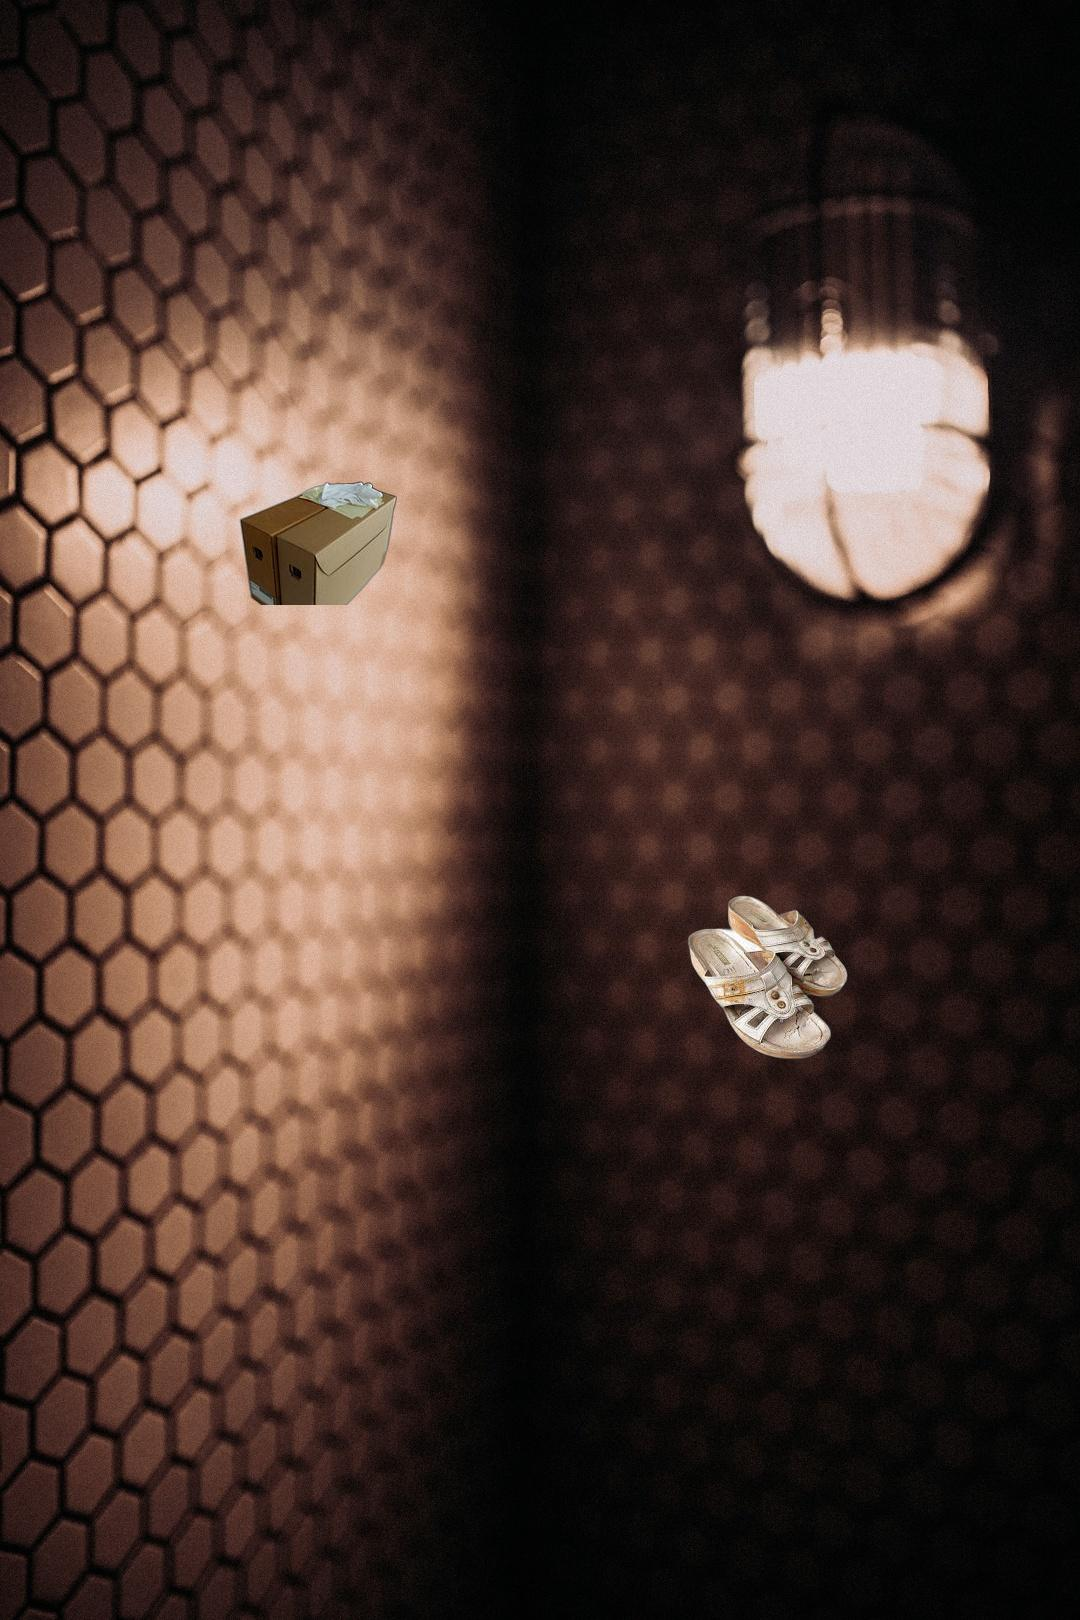shoes: (685, 893, 851, 1062)
trashbox-cardboard: (237, 477, 399, 605), (1000, 1407, 1080, 1620)
